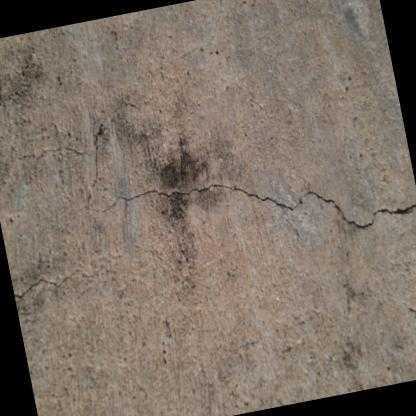crack: (87, 182, 416, 228)
